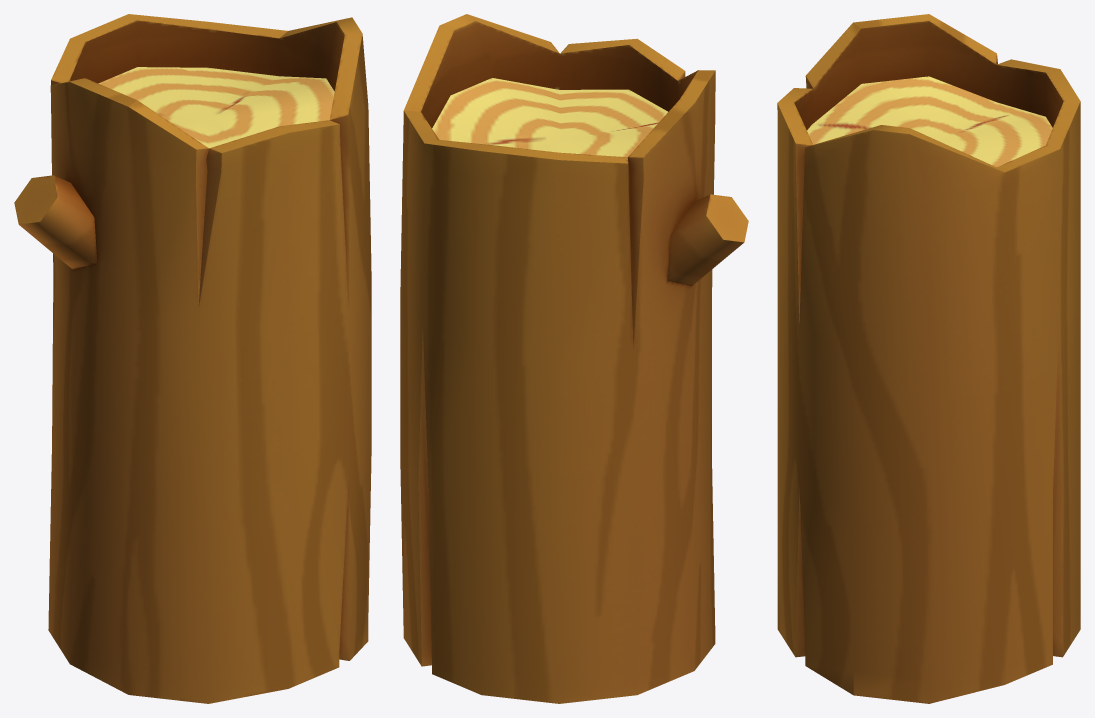
File: wood.fbx
3 views of the same model, side by side, from view 1: azimuth 30°, elevation 25°; view 2: azimuth 150°, elevation 25°; view 3: azimuth 270°, elevation 25° (orthographic). The views are drawn at different scales.
Visible parts, largest first — view 1: wood; view 2: wood; view 3: wood.
Part boxes in pixels (<box>): wood: <box>14,14,371,703</box>; wood: <box>400,14,748,703</box>; wood: <box>777,14,1080,703</box>.
Bounding box in the file's own units: 240 × 414 × 200.
Materials: 1 (1 with a texture image).
